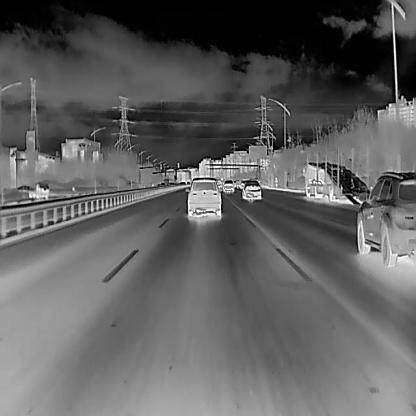car: (355, 170, 416, 266), (302, 160, 371, 206), (184, 176, 222, 216), (241, 179, 262, 200), (29, 181, 48, 198), (16, 184, 33, 195), (222, 178, 234, 193)
